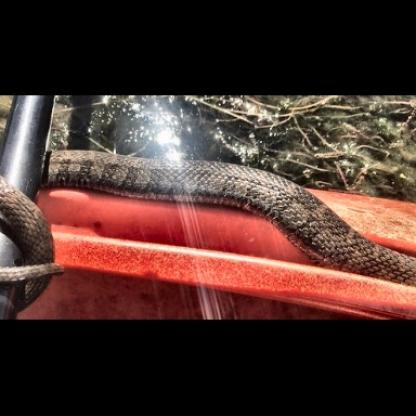Snake: (9, 123, 416, 313)
